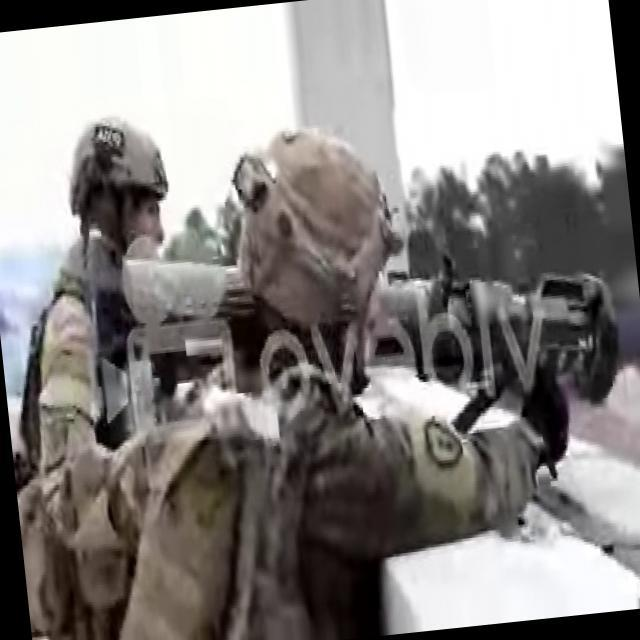rocket: (372, 252, 626, 431)
